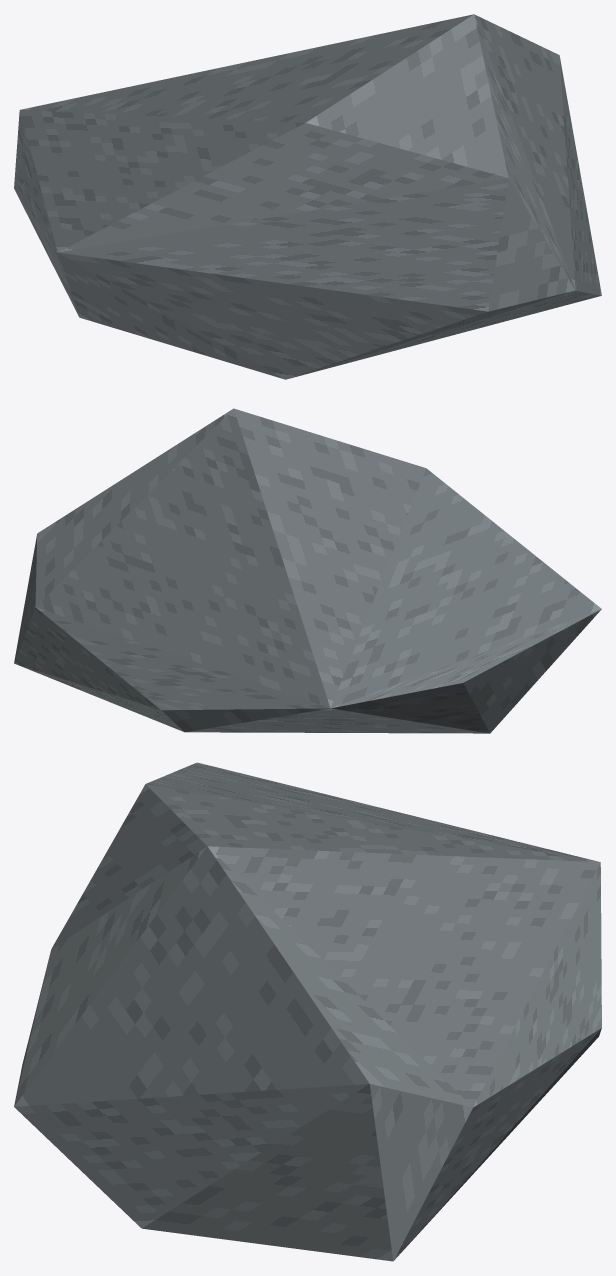
The model's file is lump_cast_iron.glb.
3 views of the same model, one above another, from view 1: azimuth 30°, elevation 25°; view 2: azimuth 150°, elevation 25°; view 3: azimuth 270°, elevation 25° (orthographic). The views are drawn at different scales.
Visible parts, largest first — view 1: block_irregular metal; view 2: block_irregular metal; view 3: block_irregular metal.
Boxes of the visible parts, x1,y1,x2,y2 form: block_irregular metal: (14, 14, 601, 379); block_irregular metal: (14, 408, 601, 733); block_irregular metal: (14, 762, 601, 1261).
Size of the model in its own units: 0.0979 by 0.0449 by 0.0731.
Materials: 1 (1 with a texture image).
